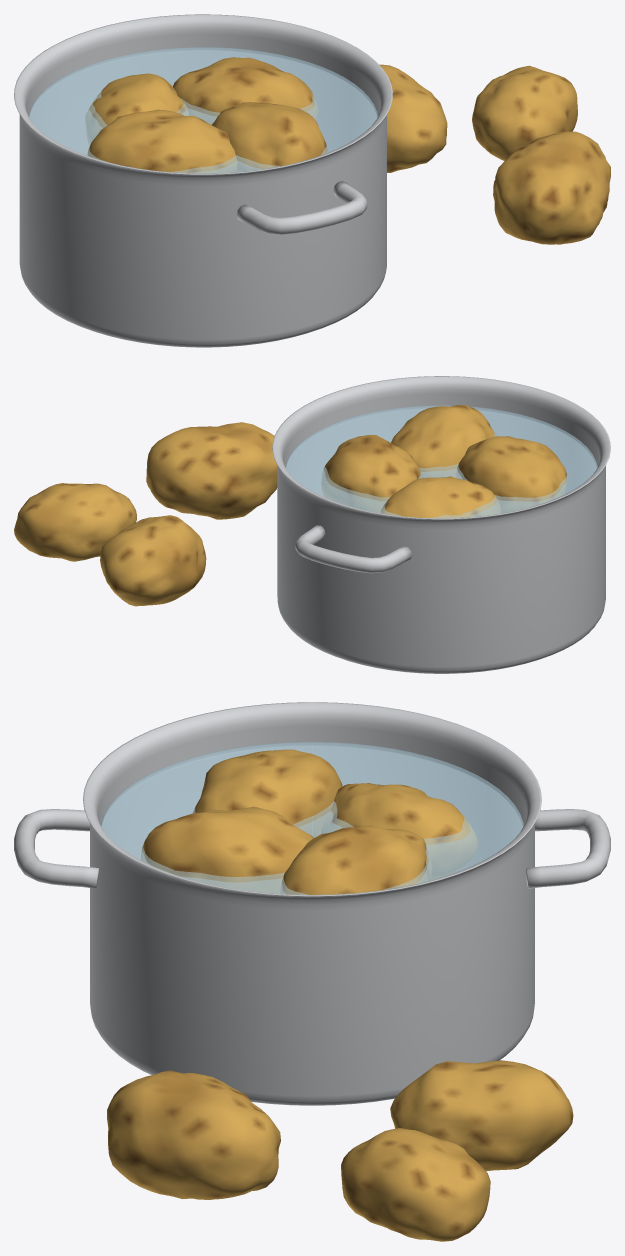
The model's file is paso-1.glb.
3 renders of one model, top to bottom at view 1: azimuth 30°, elevation 25°; view 2: azimuth 150°, elevation 25°; view 3: azimuth 270°, elevation 25°, orthographic. The views are drawn at different scales.
Parts seen in each view (by area): view 1: paso-1-0, paso-1-3, paso-1-8, paso-1-6, paso-1-9, paso-1-4, paso-1-7, paso-1-10, paso-1-5, paso-1-2; view 2: paso-1-0, paso-1-3, paso-1-8, paso-1-10, paso-1-9, paso-1-6, paso-1-4, paso-1-7, paso-1-5, paso-1-1; view 3: paso-1-0, paso-1-3, paso-1-8, paso-1-10, paso-1-9, paso-1-7, paso-1-4, paso-1-6, paso-1-5, paso-1-1, paso-1-2.
Boxes of the visible parts, x1,y1,x2,y2 form: paso-1-0: (14,14,392,347); paso-1-3: (28,47,377,173); paso-1-8: (493,131,610,244); paso-1-6: (87,109,237,173); paso-1-9: (472,65,577,160); paso-1-4: (173,57,318,124); paso-1-7: (212,102,327,171); paso-1-10: (379,64,447,172); paso-1-5: (85,73,188,145); paso-1-2: (236,181,367,234); paso-1-0: (272,376,610,673); paso-1-3: (285,405,597,518); paso-1-8: (146,422,277,519); paso-1-10: (100,515,206,606); paso-1-9: (14,483,136,561); paso-1-6: (456,436,566,512); paso-1-4: (321,434,421,512); paso-1-7: (391,405,496,477); paso-1-5: (380,476,501,518); paso-1-1: (294,525,411,573); paso-1-0: (83,702,541,1105); paso-1-3: (101,742,523,894); paso-1-8: (107,1070,280,1199); paso-1-10: (390,1060,573,1171); paso-1-9: (341,1128,490,1241); paso-1-7: (141,806,314,893); paso-1-4: (280,825,432,894); paso-1-6: (193,749,342,837); paso-1-5: (321,783,478,880); paso-1-1: (526,809,610,888); paso-1-2: (14,809,98,888).
Bounding box in the file's own units: 0.312 × 0.0943 × 0.228.
